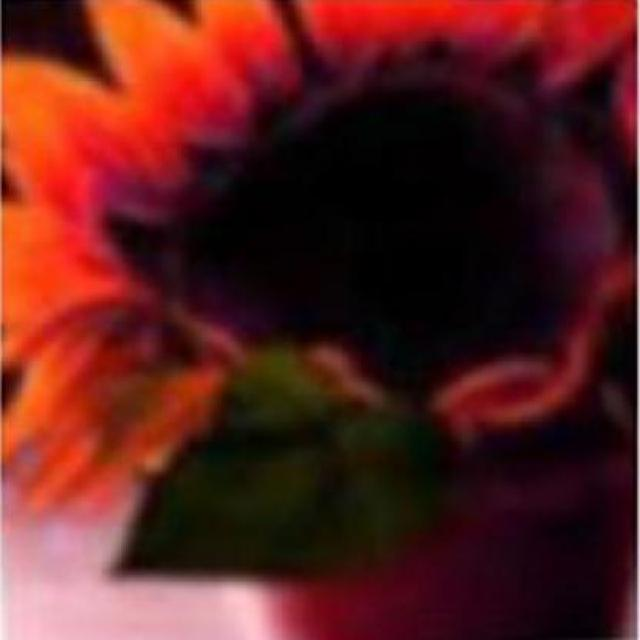sunflower: (1, 0, 640, 520)
